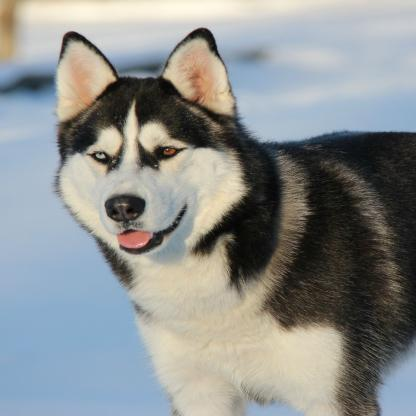dog: (46, 31, 416, 416)
